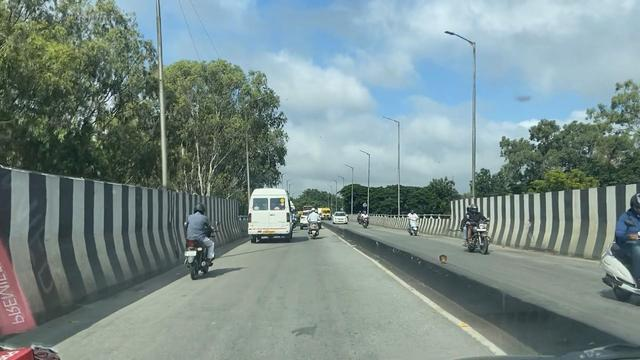HMV: (247, 188, 293, 244)
LMV: (178, 197, 216, 284), (308, 199, 324, 242)
